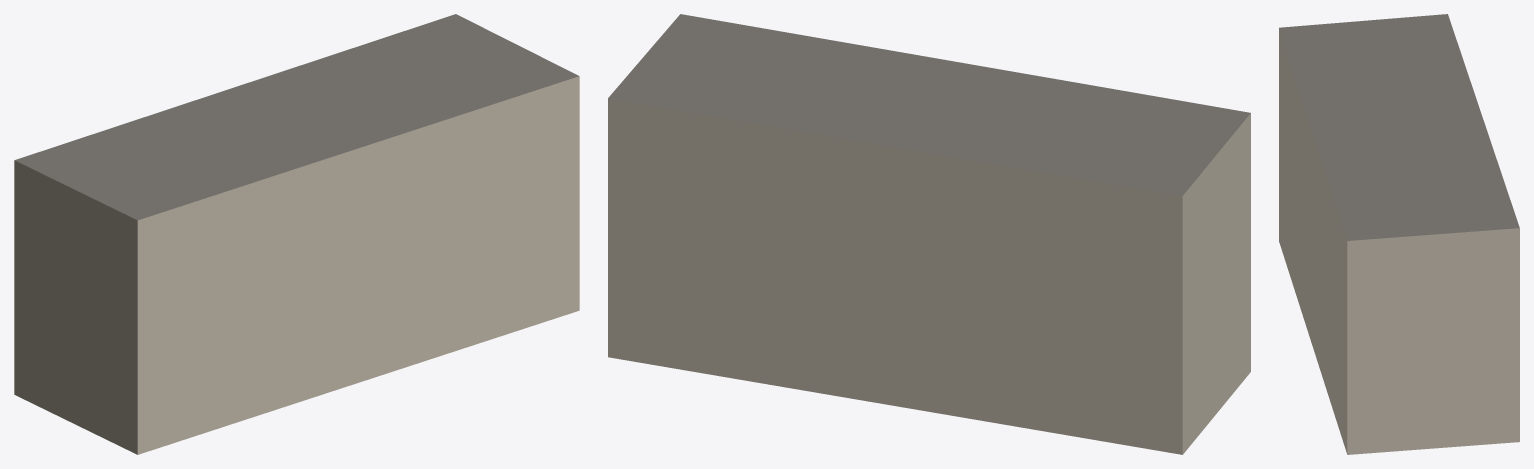
3 renders of one model, left to right at view 1: azimuth 30°, elevation 25°; view 2: azimuth 150°, elevation 25°; view 3: azimuth 270°, elevation 25°, orthographic. The views are drawn at different scales.
Visible parts, largest first — view 1: HP-w505636151; view 2: HP-w505636151; view 3: HP-w505636151.
Part boxes in pixels (x1,y1,x2,y2): HP-w505636151: (14,14,579,454); HP-w505636151: (608,14,1250,454); HP-w505636151: (1279,14,1519,454).
Size of the model in its own units: 27.31 by 12 by 12.24.
